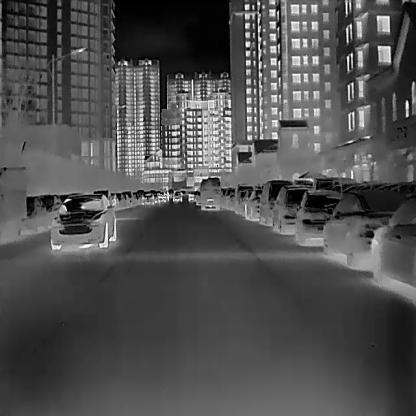car: (323, 194, 408, 267), (371, 191, 416, 288), (50, 192, 116, 249), (294, 191, 344, 246), (273, 186, 317, 234), (0, 165, 27, 243), (259, 180, 292, 225), (26, 195, 47, 234), (199, 177, 220, 211), (42, 192, 61, 226), (245, 191, 263, 220), (141, 191, 154, 206), (172, 189, 183, 203), (157, 194, 168, 207)
